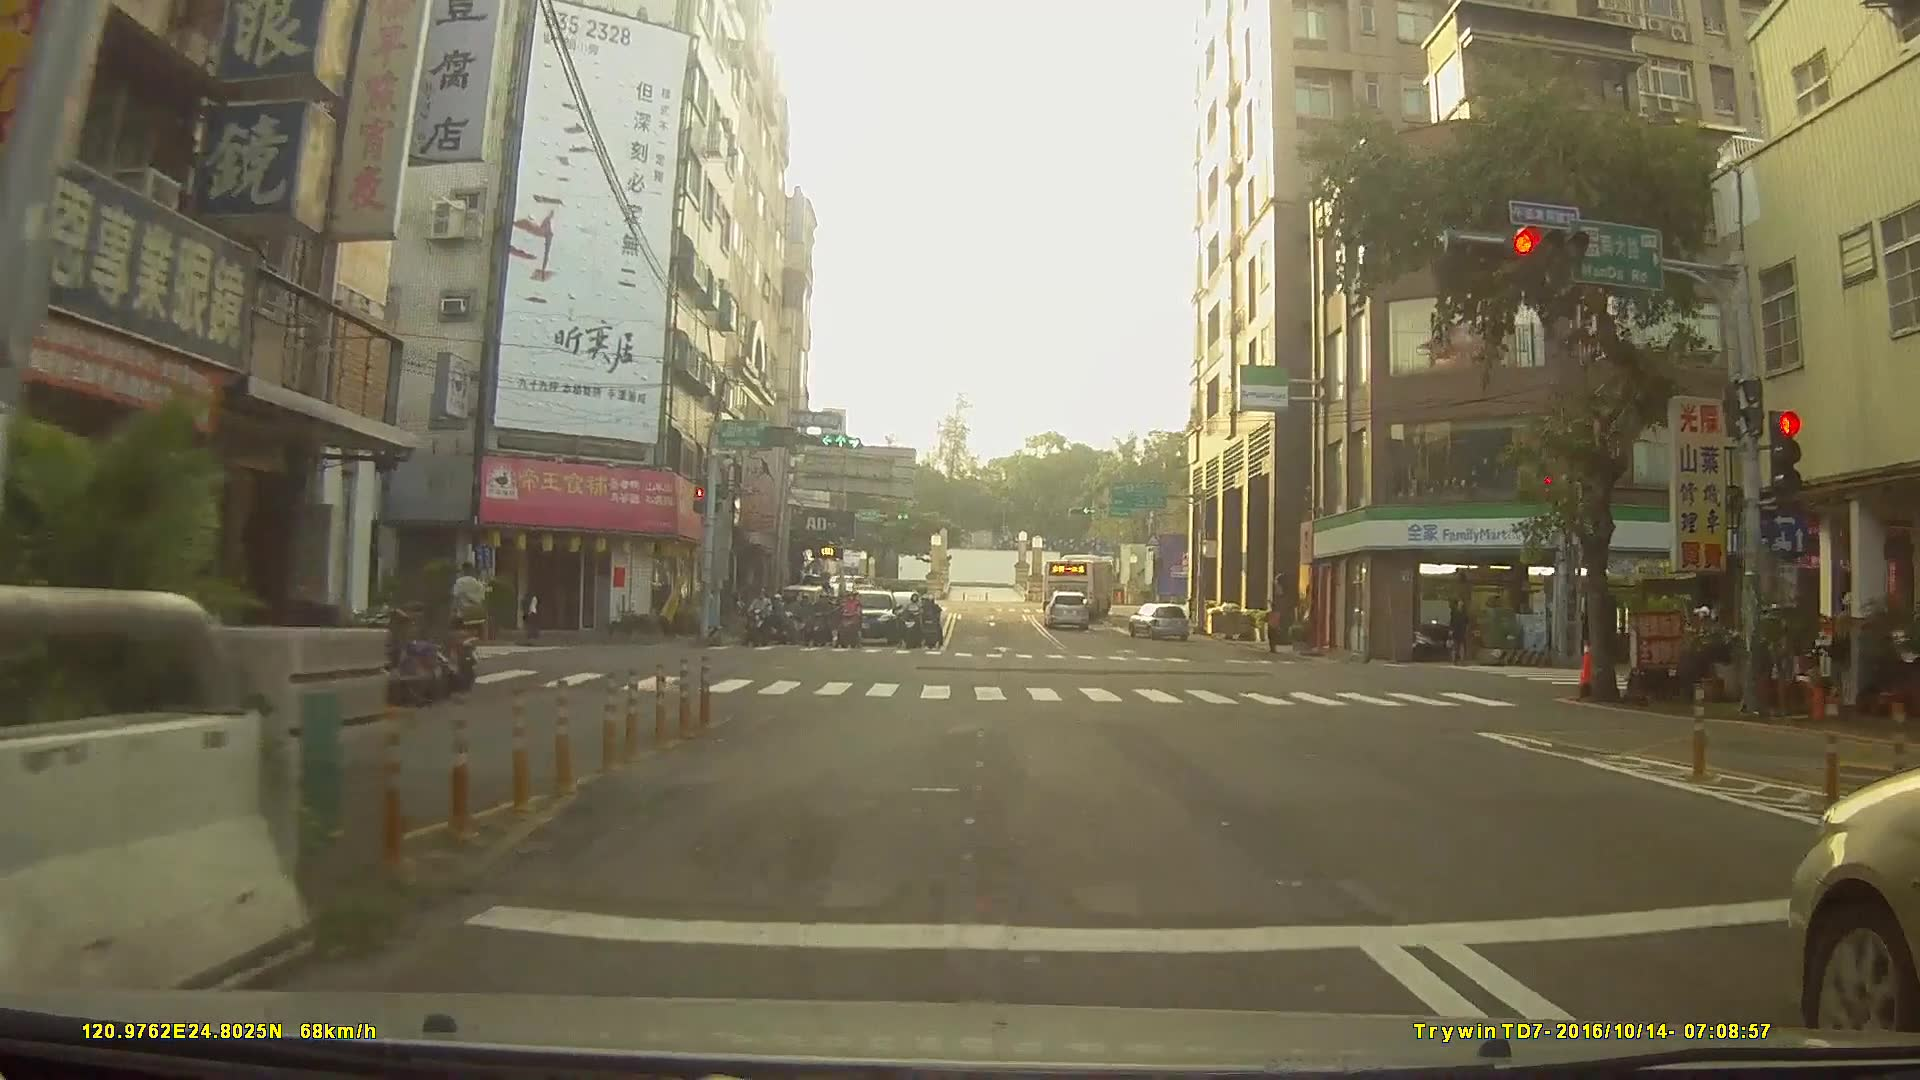pedestrian: (445, 561, 493, 668), (1448, 596, 1472, 666), (524, 585, 544, 646), (1265, 600, 1285, 655)
rider: (743, 587, 774, 651), (833, 591, 863, 653), (777, 591, 804, 645), (811, 590, 836, 649), (900, 590, 923, 648), (920, 601, 942, 656)
vehicle: (1041, 549, 1116, 617), (837, 586, 900, 648), (1125, 599, 1188, 640), (1041, 590, 1092, 628)
